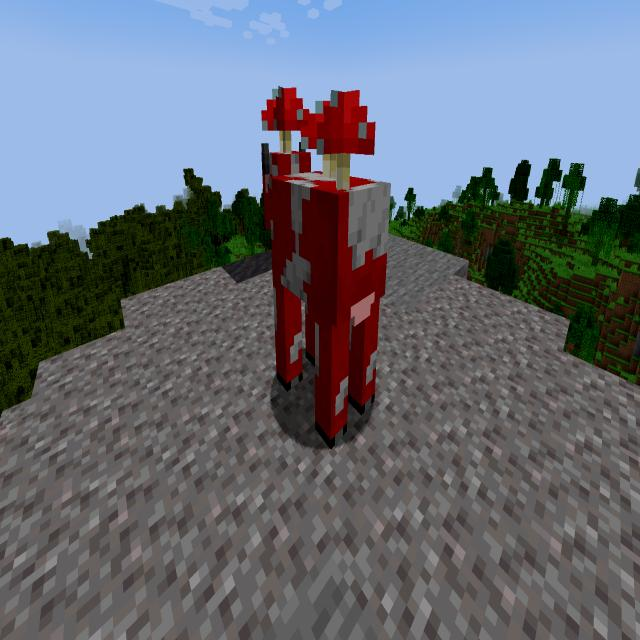Mooshroom: (241, 62, 407, 460)
